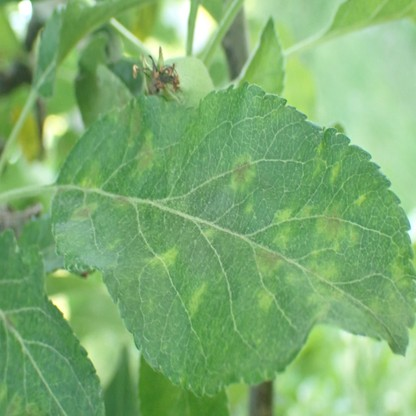scab: (368, 261, 408, 320), (131, 132, 158, 178), (286, 259, 336, 283), (305, 286, 342, 318), (313, 209, 342, 249), (231, 153, 256, 188), (187, 280, 208, 316), (145, 247, 177, 269), (254, 249, 280, 275), (8, 394, 37, 416), (275, 209, 290, 247), (82, 160, 102, 186), (129, 106, 141, 143), (72, 203, 97, 220), (312, 140, 323, 178), (331, 158, 345, 184), (257, 290, 271, 312), (5, 311, 18, 331), (114, 195, 130, 208), (354, 194, 367, 206), (350, 229, 360, 244), (204, 227, 214, 239), (246, 203, 253, 213)
